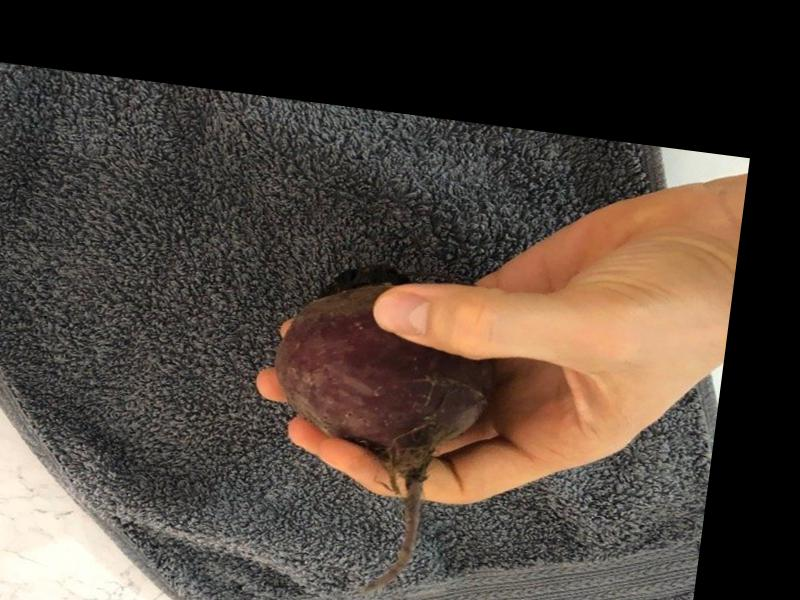Beet: (248, 253, 506, 600)
